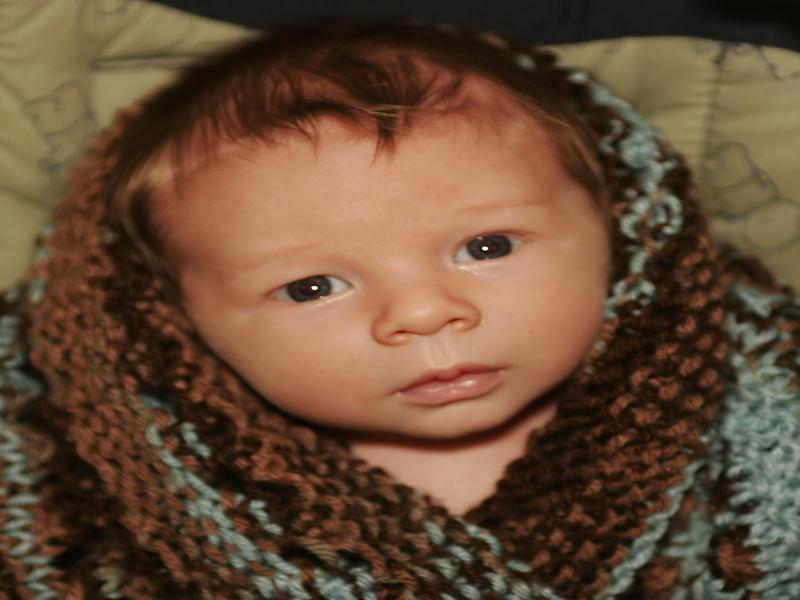person: (44, 11, 797, 600)
